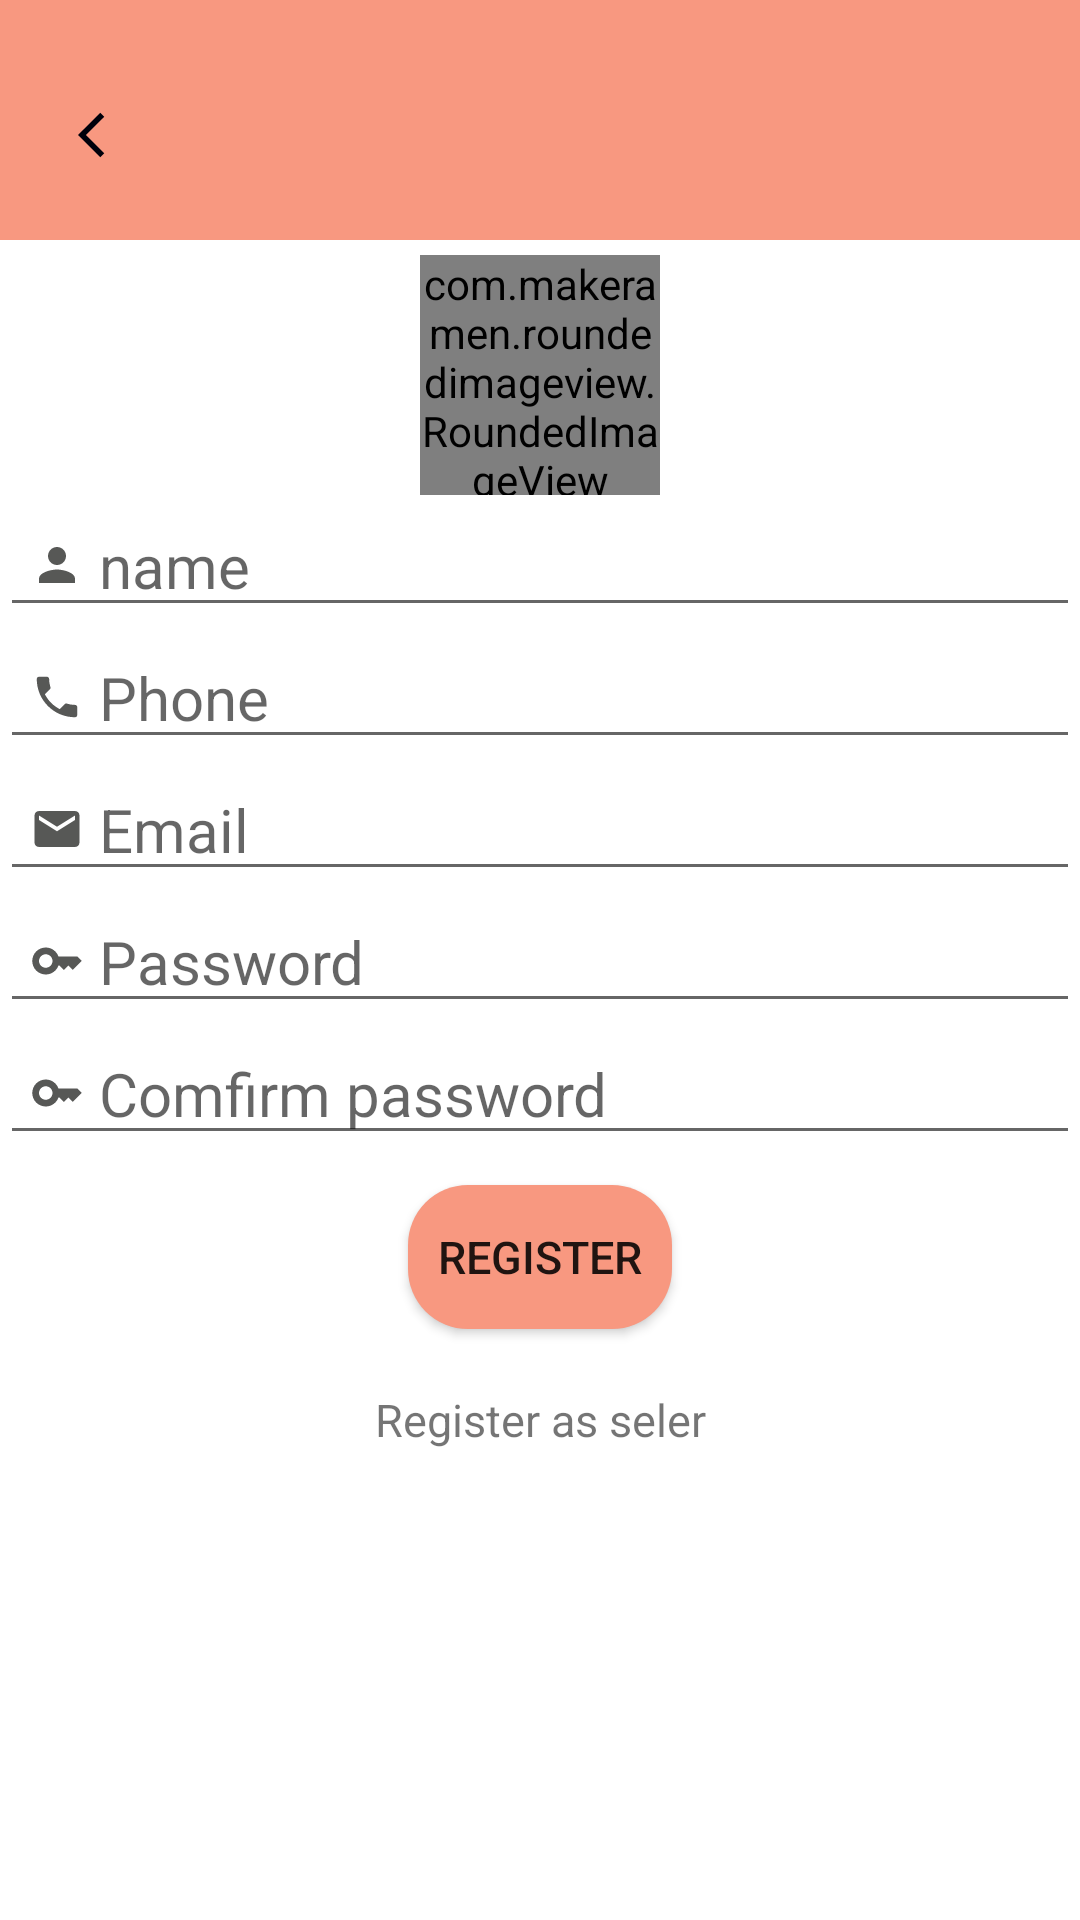

Point at icon controls on the screen. Image size 1080×1920, points as point (x, y).
back: point (91, 135)
